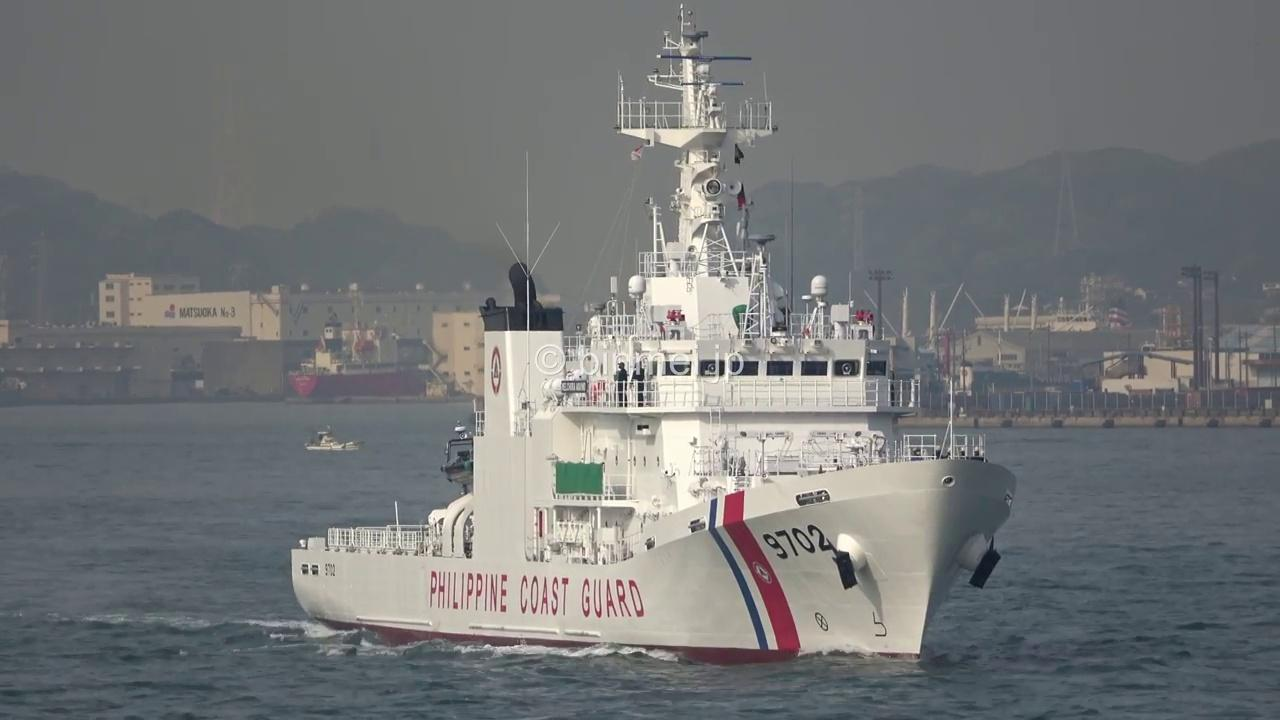Ship: (307, 427, 366, 454)
